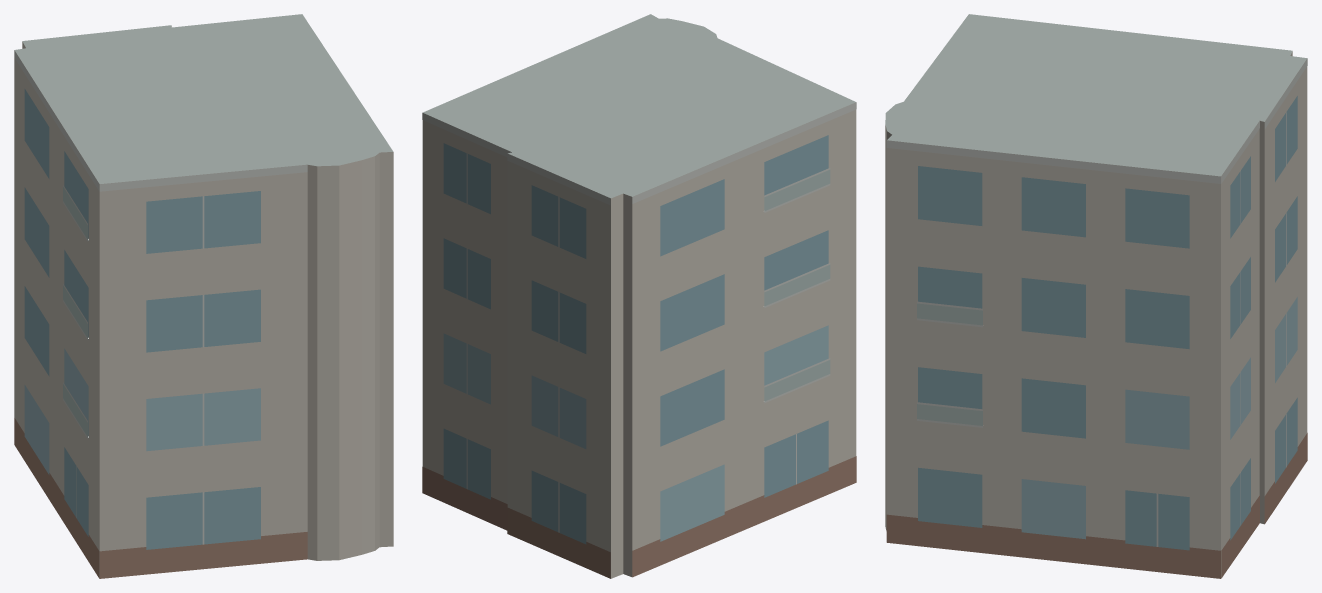
File: survey-upis-32517319.glb
3 views of the same model, side by side, from view 1: azimuth 30°, elevation 25°; view 2: azimuth 150°, elevation 25°; view 3: azimuth 270°, elevation 25° (orthographic). The views are drawn at different scales.
Parts seen in each view (by area): view 1: survey-upis-32517319.tmp; view 2: survey-upis-32517319.tmp; view 3: survey-upis-32517319.tmp.
Part boxes in pixels (x1,y1,x2,y2): survey-upis-32517319.tmp: (14,14,393,578); survey-upis-32517319.tmp: (422,14,856,578); survey-upis-32517319.tmp: (885,14,1307,578).
Size of the model in its own units: 11.09 by 12.8 by 12.17.
